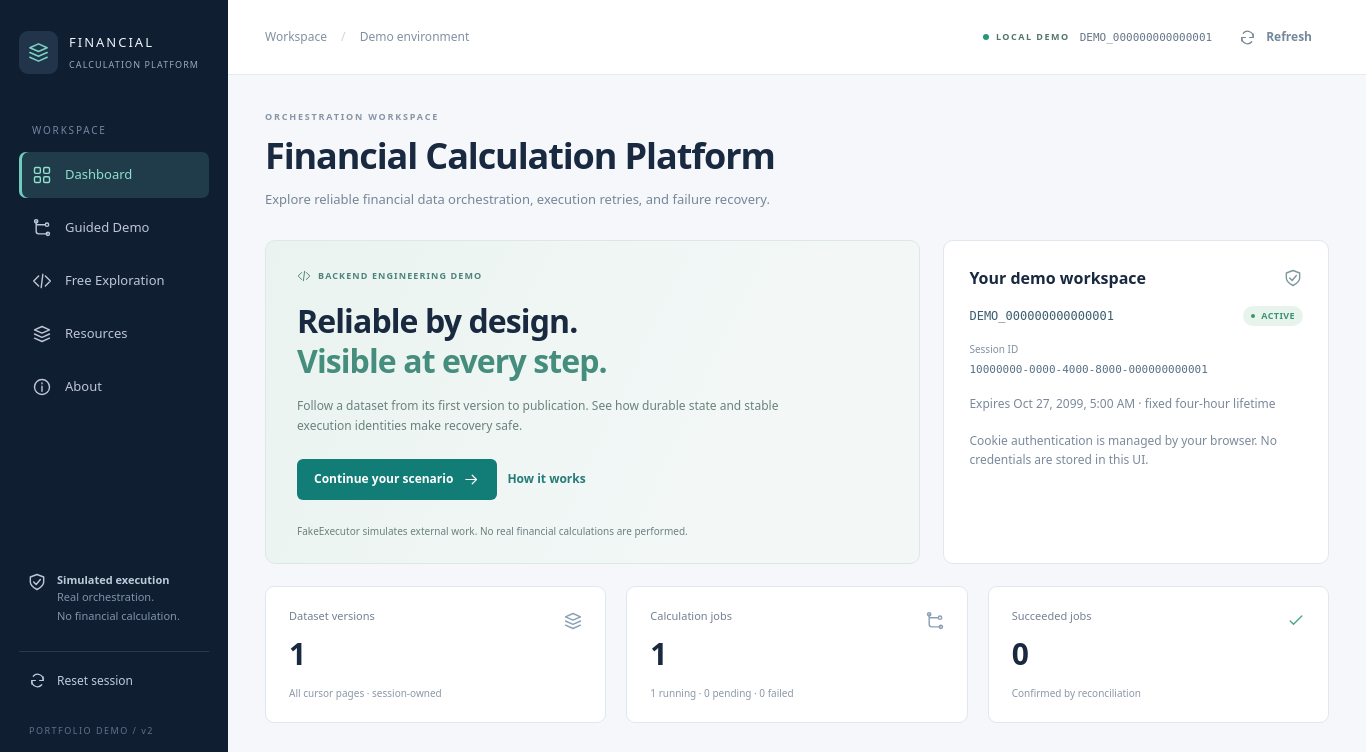
confirms Reset explicitly, clears session/cache/request scope only after 204 and does not auto-start
Click the button "Reset session" at coordinates (114, 675), box [19,650,209,700]
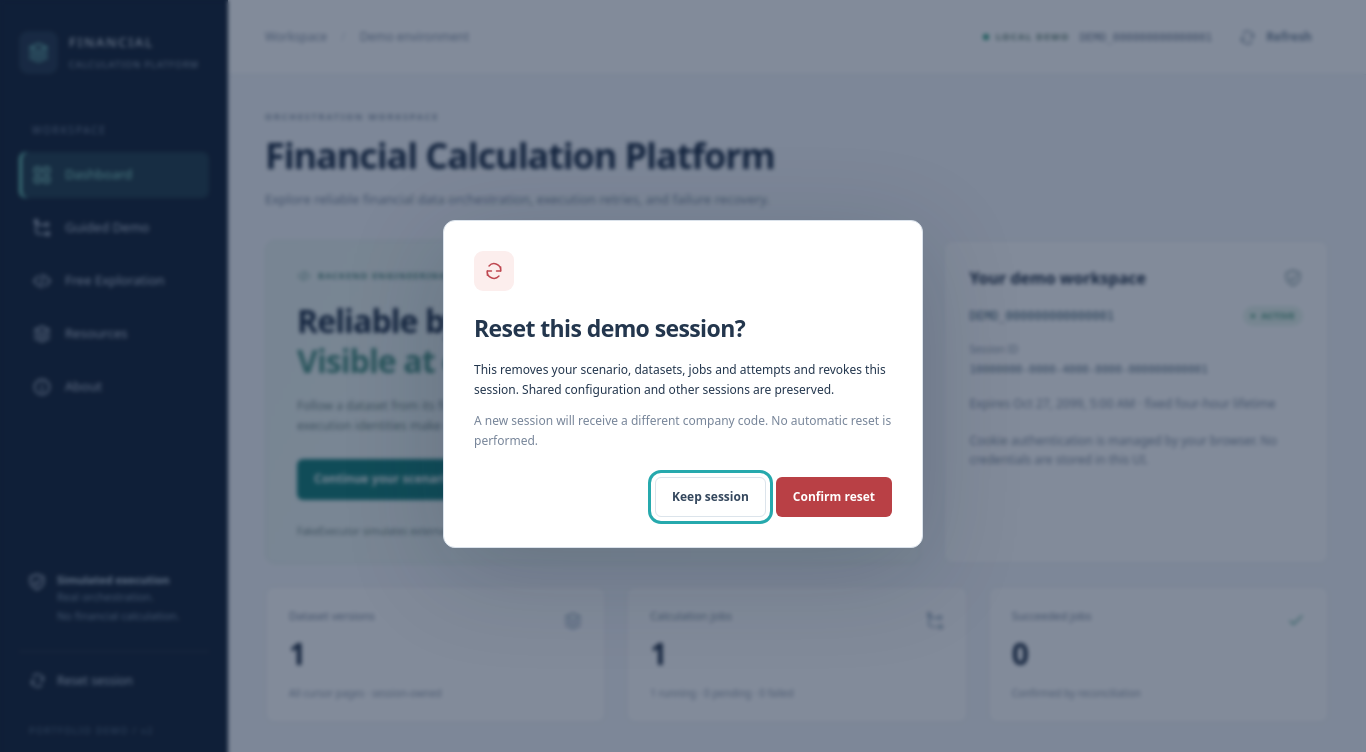
Click the button "Confirm reset" at coordinates (834, 497), box [776,477,892,517]
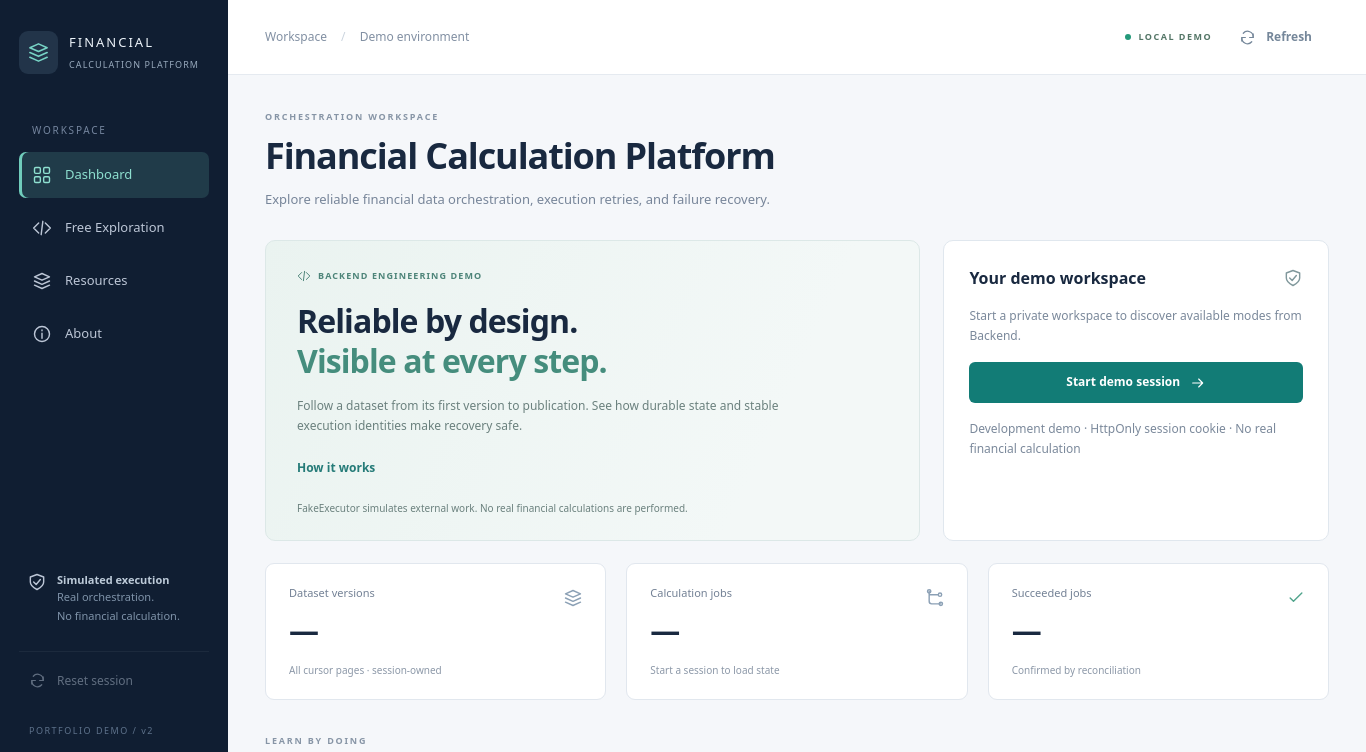
Expected: the button "Start demo session" is shown, [969,362,1303,403]
